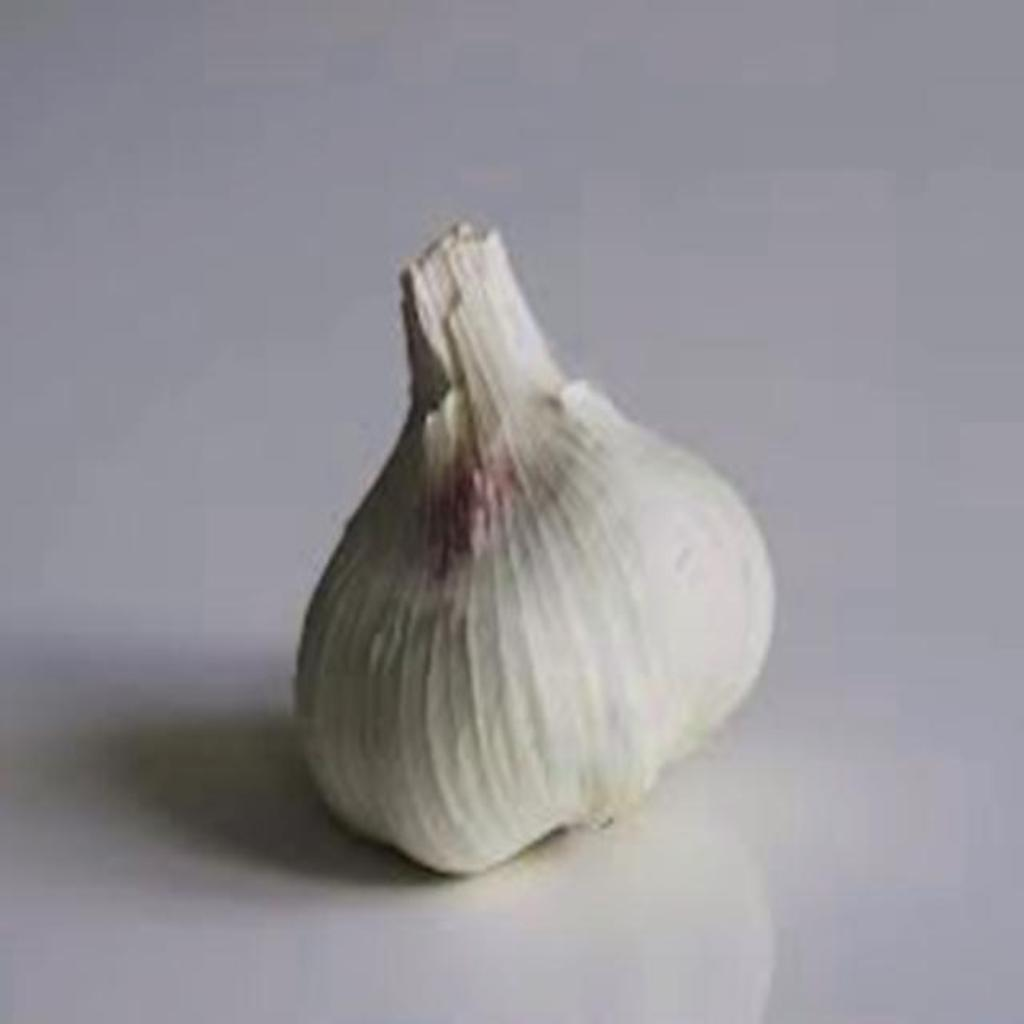garlic: (296, 222, 774, 871)
